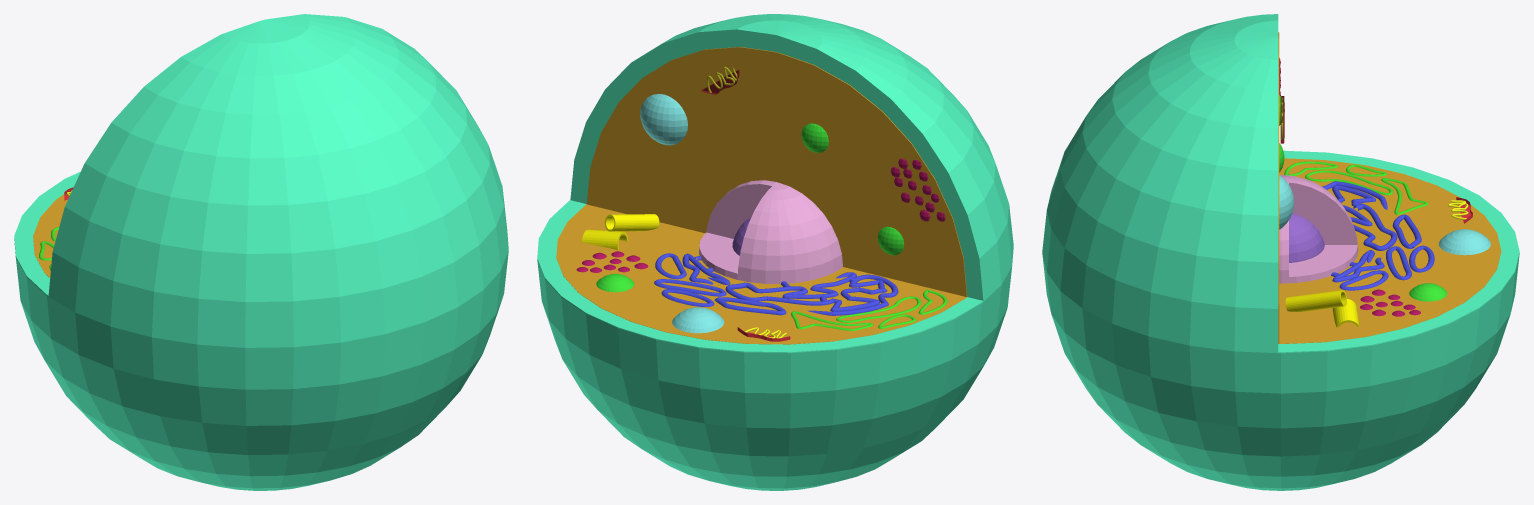
3 views of the same model, side by side, from view 1: azimuth 30°, elevation 25°; view 2: azimuth 150°, elevation 25°; view 3: azimuth 270°, elevation 25° (orthographic). The views are drawn at different scales.
Parts seen in each view (by area): view 1: Сфера.003, Сфера; view 2: Сфера.003, Сфера, Сфера.001, КриваяБезье.004, Вакуоль, КриваяБезье.002, Вакуоль.001, Цилиндр.001, Цилиндр, Сфера.018, Сфера.020, Сфера.019; view 3: Сфера.003, Сфера, Сфера.001, КриваяБезье.004, КриваяБезье.002, Сфера.002, Вакуоль.001, Цилиндр.001, Вакуоль, Сфера.019, Цилиндр.
Boxes of the visible parts, bbox=[...] form: Сфера.003: bbox=[14, 14, 508, 490]; Сфера: bbox=[33, 194, 67, 277]; Сфера.003: bbox=[537, 14, 1013, 490]; Сфера: bbox=[556, 47, 967, 344]; Сфера.001: bbox=[699, 180, 842, 283]; КриваяБезье.004: bbox=[654, 253, 898, 315]; Вакуоль: bbox=[640, 94, 687, 145]; КриваяБезье.002: bbox=[791, 289, 947, 330]; Вакуоль.001: bbox=[672, 307, 724, 333]; Цилиндр.001: bbox=[605, 214, 659, 231]; Цилиндр: bbox=[582, 229, 628, 249]; Сфера.018: bbox=[801, 123, 828, 152]; Сфера.020: bbox=[877, 226, 904, 255]; Сфера.019: bbox=[596, 273, 634, 292]; Сфера.003: bbox=[1042, 14, 1519, 490]; Сфера: bbox=[1278, 32, 1501, 343]; Сфера.001: bbox=[1279, 175, 1358, 283]; КриваяБезье.004: bbox=[1322, 181, 1434, 290]; КриваяБезье.002: bbox=[1284, 161, 1428, 214]; Сфера.002: bbox=[1289, 213, 1324, 262]; Вакуоль.001: bbox=[1438, 229, 1490, 255]; Цилиндр.001: bbox=[1285, 290, 1346, 311]; Вакуоль: bbox=[1279, 175, 1294, 229]; Сфера.019: bbox=[1409, 283, 1447, 301]; Цилиндр: bbox=[1332, 299, 1359, 327].
Size of the model in its own units: 4.34 by 4.34 by 4.34.
